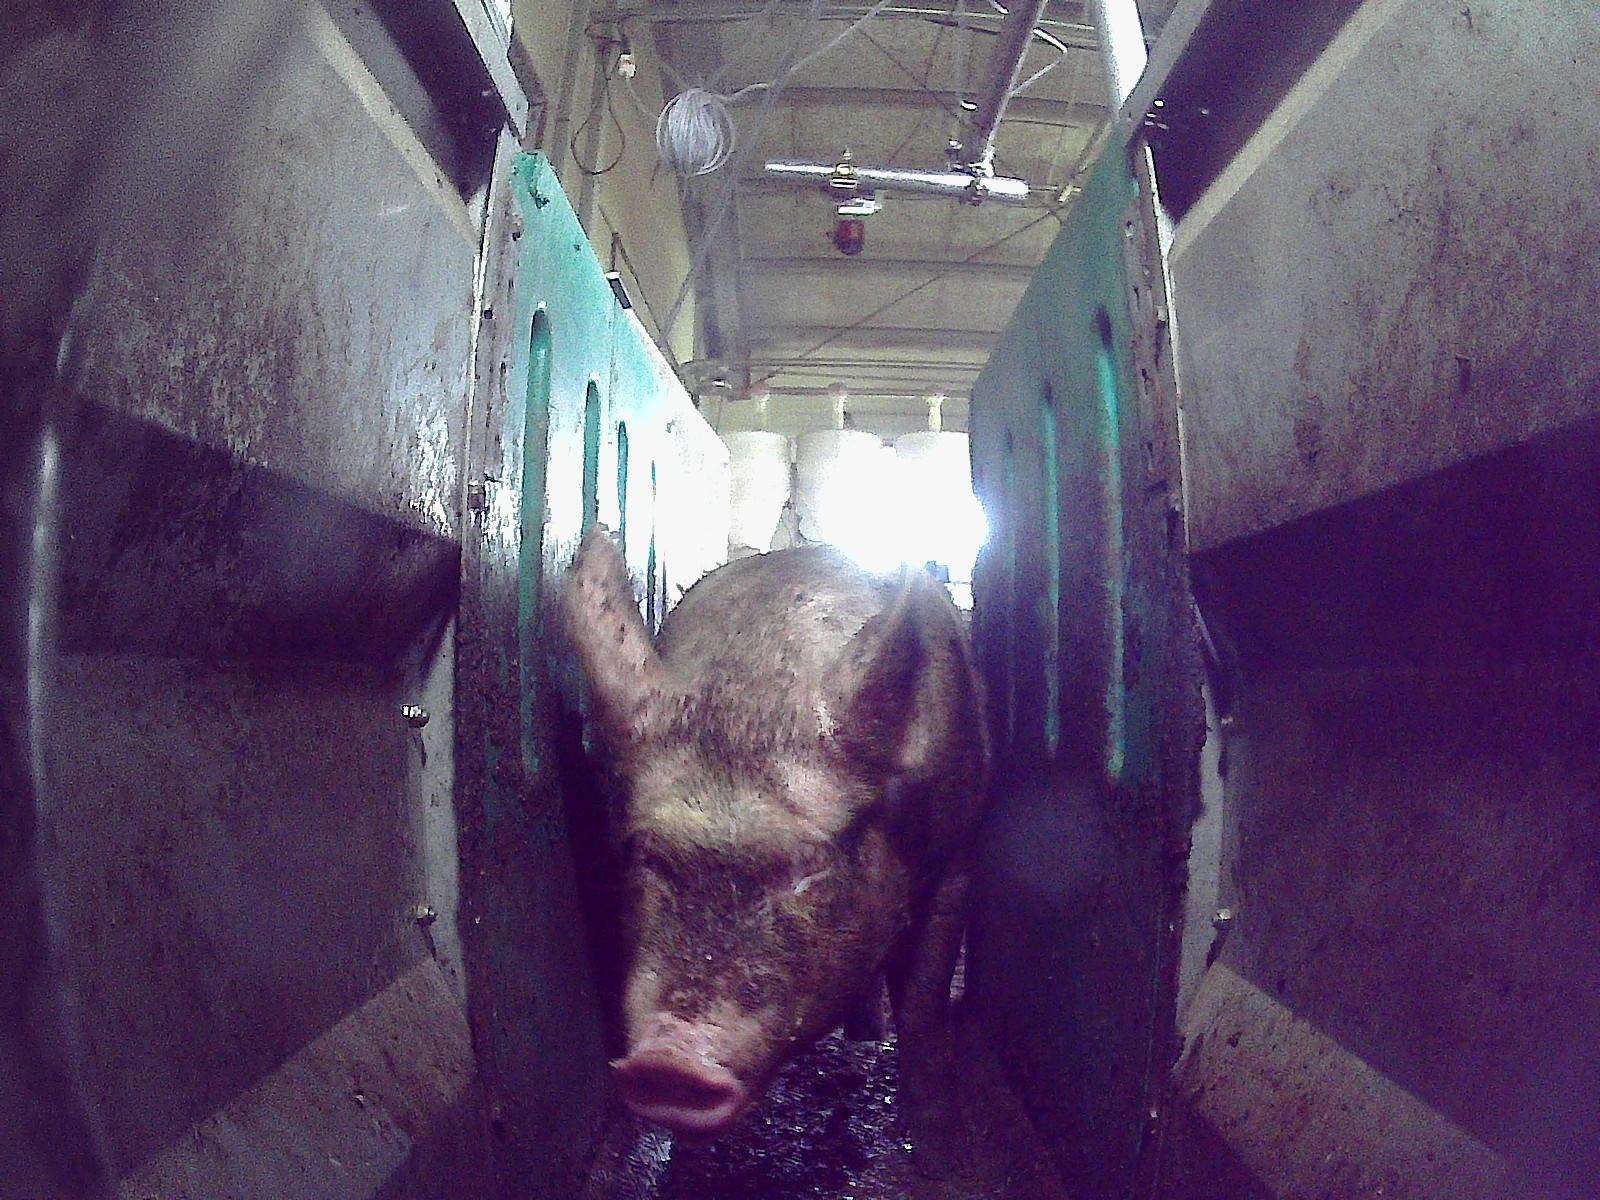Face: (609, 666, 880, 1139)
